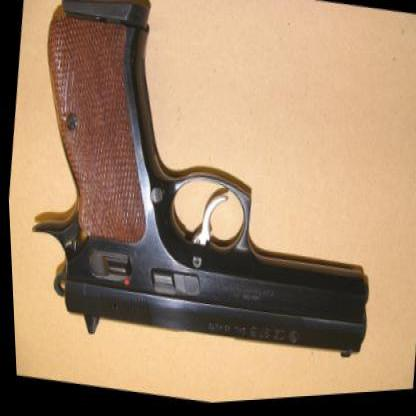pistol: (11, 0, 400, 397)
